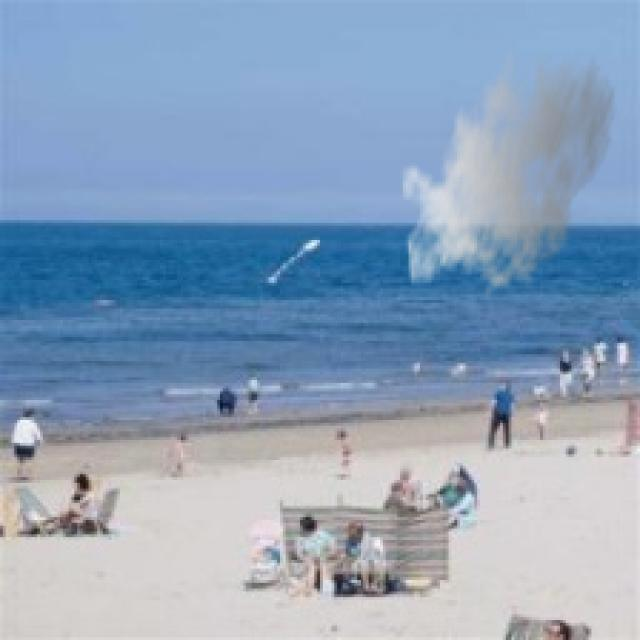smoke: (400, 34, 617, 300)
